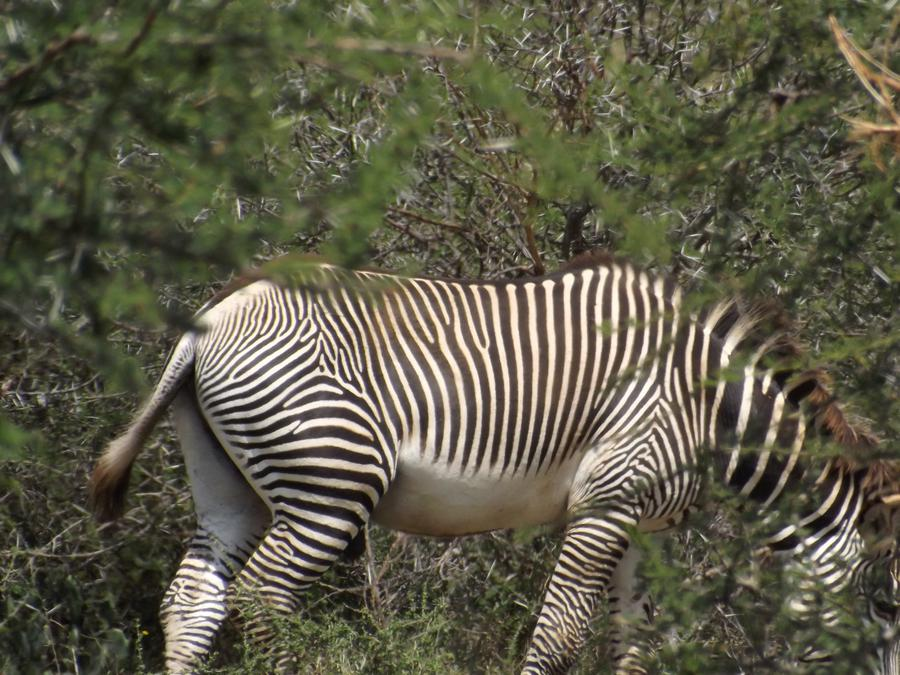zebra_grevys: (163, 230, 653, 526)
